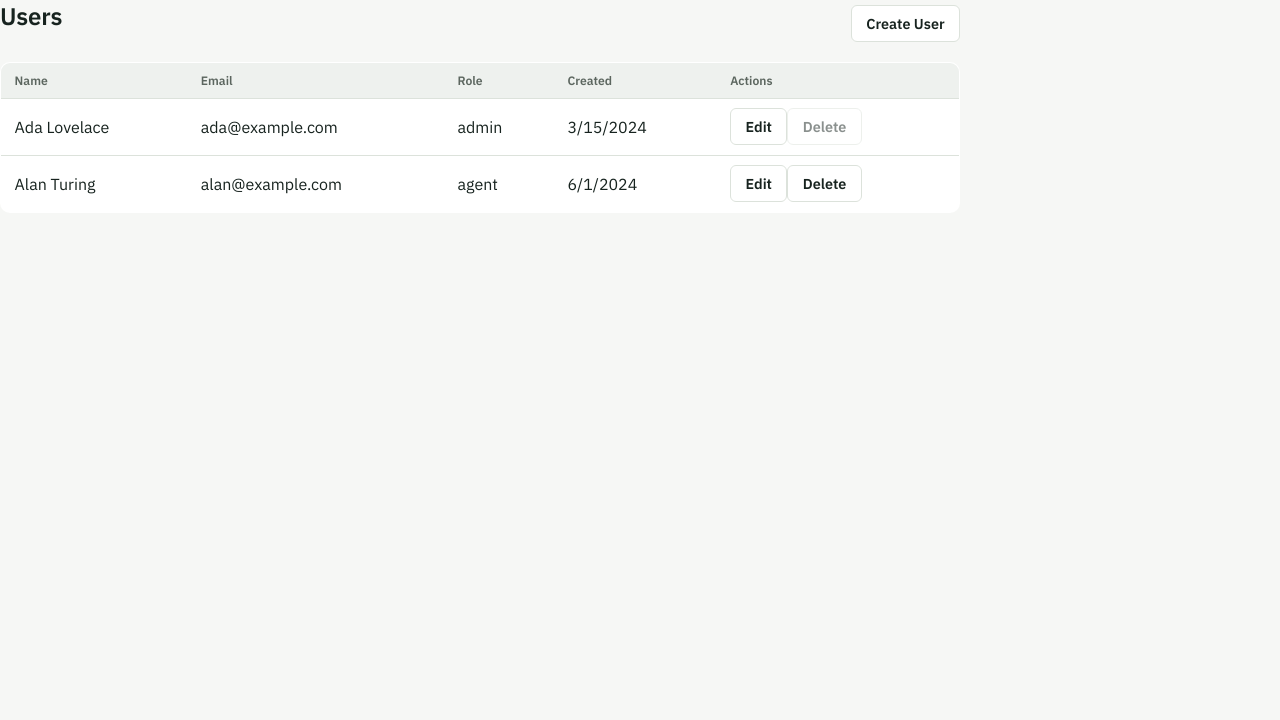
deletes a user via the confirmation modal and refreshes the list
The width and height of the screenshot is (1280, 720).
Step 1. Click the button with aria-label "Delete Alan Turing" → click(825, 184), box [787,165,862,202]
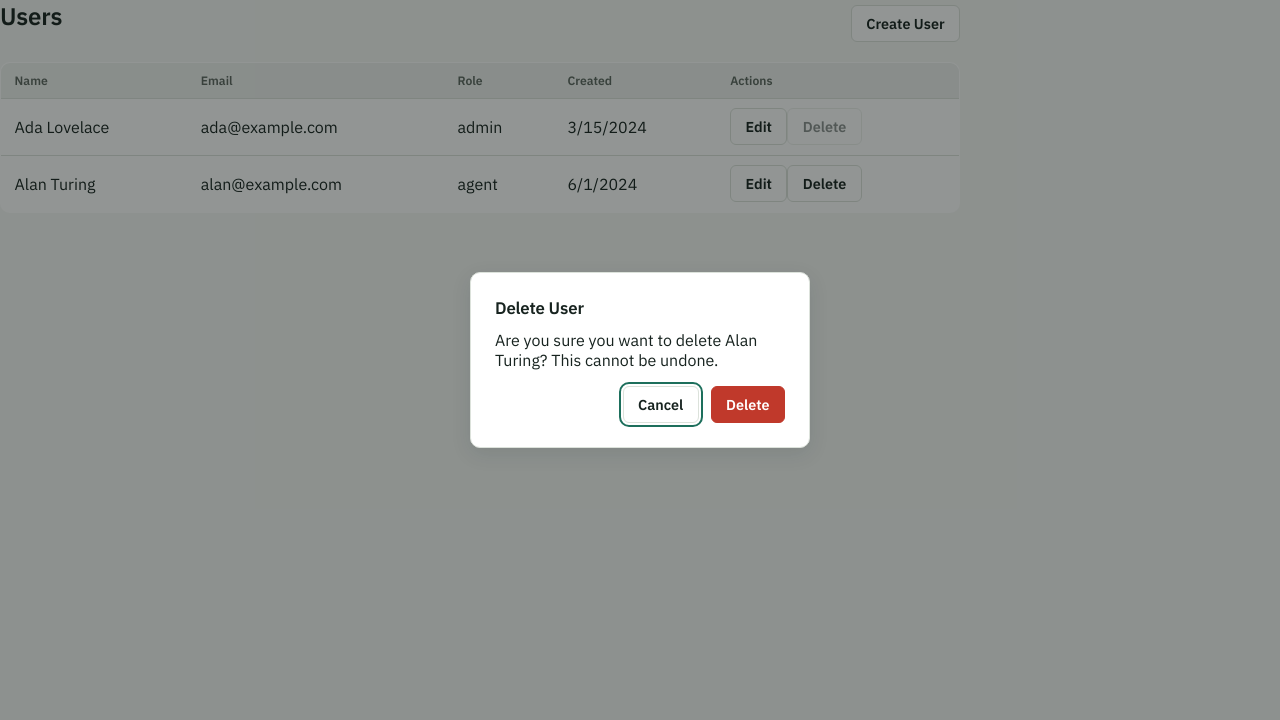
Expected: the heading "Delete User" is shown, [495,298,584,320]
Step 2. Click the button "Delete" below "? This cannot be undone." → click(748, 404), box [711,386,785,422]
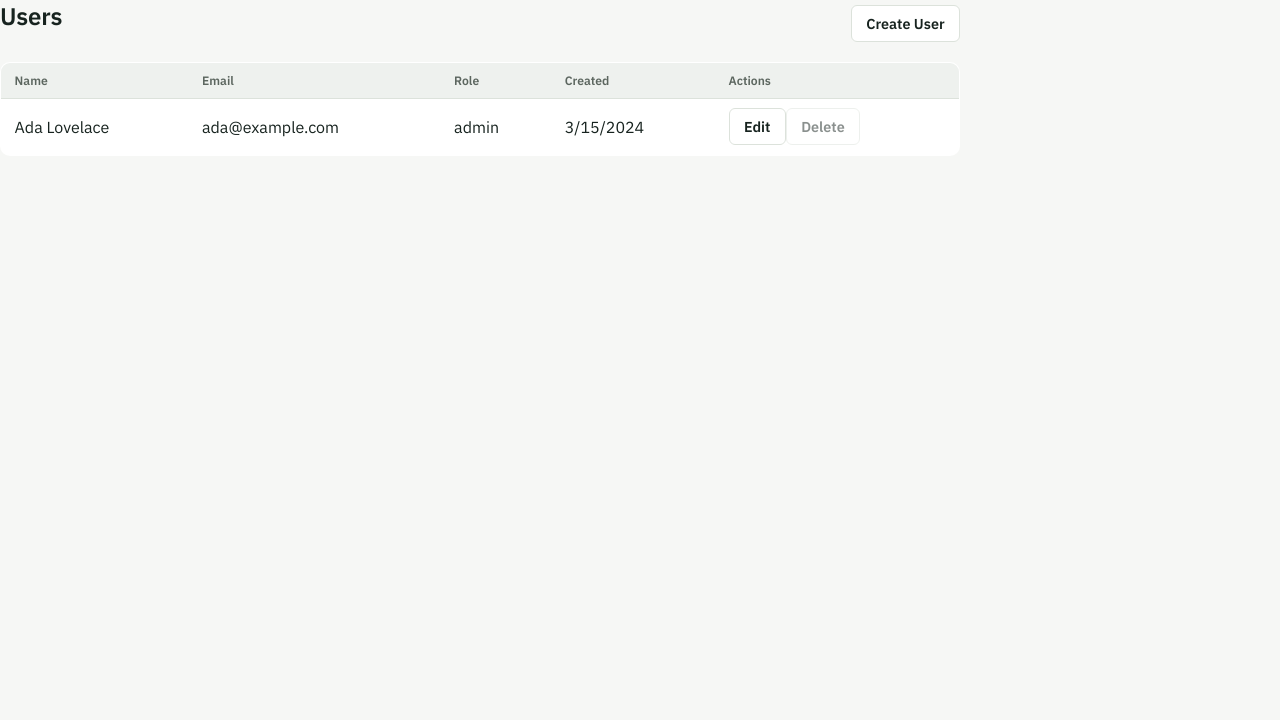
Expected: the text "Ada Lovelace" is shown, [0,98,188,155]
Expected: the text "Alan Turing" is gone
Expected: the heading "Delete User" is gone
